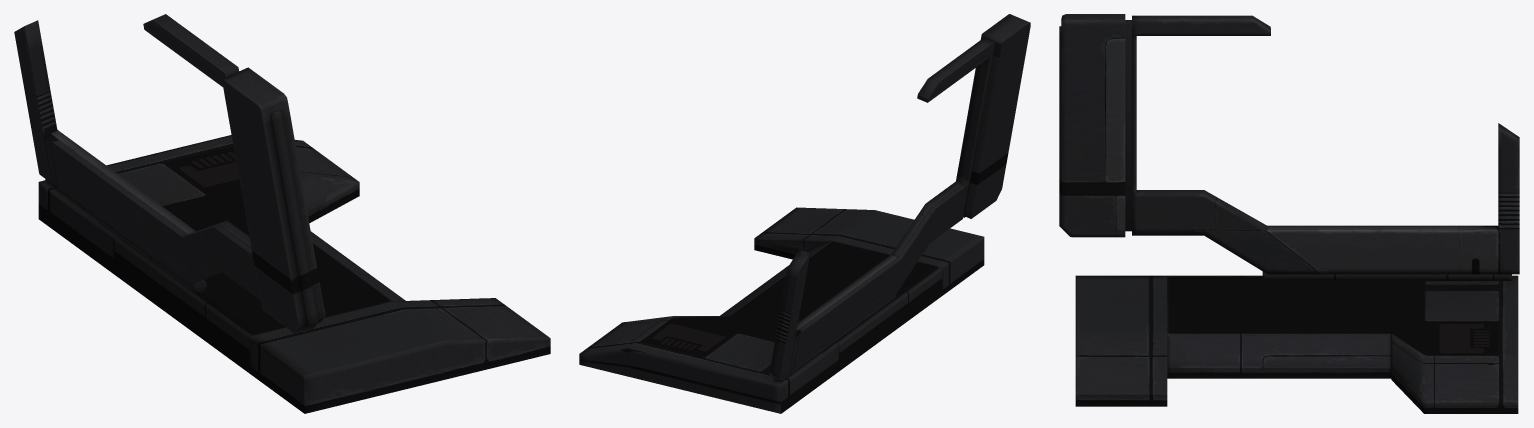
Rendered from GUI_Level_Terminal01.FBX.
3 views of the same model, side by side, from view 1: azimuth 30°, elevation 25°; view 2: azimuth 150°, elevation 25°; view 3: azimuth 270°, elevation 25° (orthographic). The views are drawn at different scales.
Visible parts, largest first — view 1: GUI_Level_Terminal01; view 2: GUI_Level_Terminal01; view 3: GUI_Level_Terminal01.
Boxes of the visible parts, x1=… form: GUI_Level_Terminal01: x1=14, y1=14, x2=550, y2=413; GUI_Level_Terminal01: x1=579, y1=14, x2=1030, y2=413; GUI_Level_Terminal01: x1=1059, y1=14, x2=1519, y2=413.
Size of the model in its own units: 0.2968 by 0.2959 by 0.4483.
